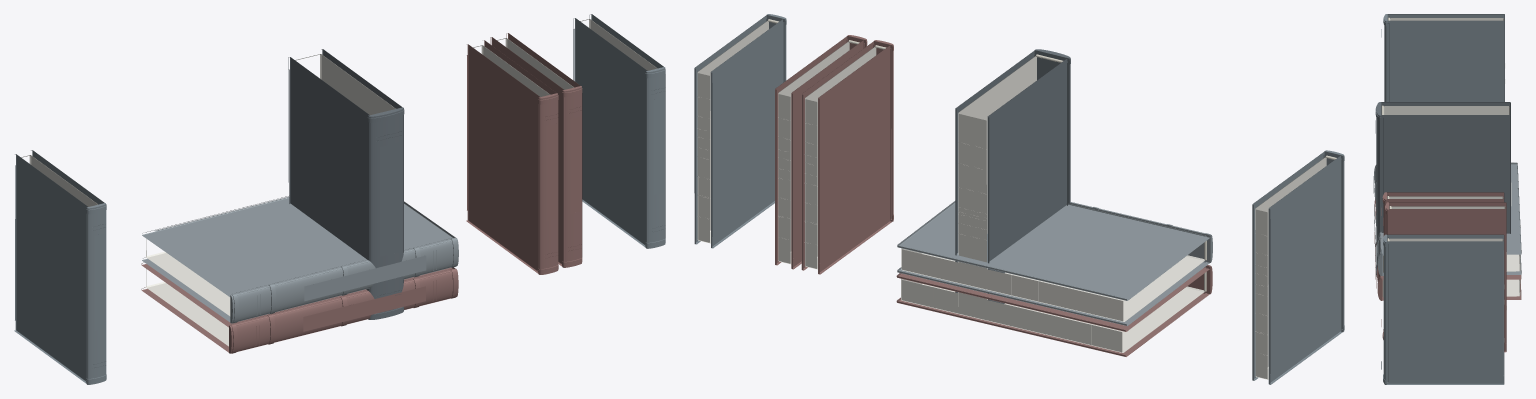
Rendered from X14_LRS1953_BOOKS_S02_bk2.glb.
3 renders of one model, left to right at view 1: azimuth 30°, elevation 25°; view 2: azimuth 150°, elevation 25°; view 3: azimuth 270°, elevation 25°, orthographic. The views are drawn at different scales.
Parts seen in each view (by area): view 1: S02_ORDERLY_REFERENCE_A_S02_ORDERLY_REFERENCE_B05_book_04_co (×2), S02_ORDERLY_REFERENCE_A_S02_ORDERLY_REFERENCE_B11_book_03_co, S02_ORDERLY_REFERENCE_A_S02_ORDERLY_REFERENCE_B03_book_03_co, S02_ORDERLY_REFERENCE_A_S02_ORDERLY_REFERENCE_B06_book_05_co (×2), S02_ORDERLY_REFERENCE_A_S02_ORDERLY_REFERENCE_B15_book_03_co, S02_ORDERLY_REFERENCE_A_S02_ORDERLY_REFERENCE_B06_book_05_sp, S02_ORDERLY_REFERENCE_A_S02_ORDERLY_REFERENCE_B05_book_04_sp, S02_ORDERLY_REFERENCE_A_S02_ORDERLY_REFERENCE_B04_book_04_sp, S02_ORDERLY_REFERENCE_A_S02_ORDERLY_REFERENCE_B11_book_03_sp, S02_ORDERLY_REFERENCE_A_S02_ORDERLY_REFERENCE_B12_book_03_sp, S02_ORDERLY_REFERENCE_A_S02_ORDERLY_REFERENCE_B03_book_03_sp, S02_ORDERLY_REFERENCE_A_S02_ORDERLY_REFERENCE_B15_book_03_sp (+16 smaller); view 2: S02_ORDERLY_REFERENCE_A_S02_ORDERLY_REFERENCE_B05_book_04_co (×2), S02_ORDERLY_REFERENCE_A_S02_ORDERLY_REFERENCE_B03_book_03_co (×2), S02_ORDERLY_REFERENCE_A_S02_ORDERLY_REFERENCE_B11_book_03_co (×2), S02_ORDERLY_REFERENCE_A_S02_ORDERLY_REFERENCE_B15_book_03_co (×2), S02_ORDERLY_REFERENCE_A_S02_ORDERLY_REFERENCE_B06_book_05_co (×2), S02_ORDERLY_REFERENCE_A_S02_ORDERLY_REFERENCE_B05_book_04_pa, S02_ORDERLY_REFERENCE_A_S02_ORDERLY_REFERENCE_B04_book_04_pa, S02_ORDERLY_REFERENCE_A_S02_ORDERLY_REFERENCE_B06_book_05_pa, S02_ORDERLY_REFERENCE_A_S02_ORDERLY_REFERENCE_B12_book_03_co (×2), S02_ORDERLY_REFERENCE_A_S02_ORDERLY_REFERENCE_B04_book_04_co (×2), S02_ORDERLY_REFERENCE_A_S02_ORDERLY_REFERENCE_B12_book_03_pa, S02_ORDERLY_REFERENCE_A_S02_ORDERLY_REFERENCE_B03_book_03_pa (+5 smaller); view 3: S02_ORDERLY_REFERENCE_A_S02_ORDERLY_REFERENCE_B15_book_03_co (×2), S02_ORDERLY_REFERENCE_A_S02_ORDERLY_REFERENCE_B06_book_05_co (×2), S02_ORDERLY_REFERENCE_A_S02_ORDERLY_REFERENCE_B03_book_03_co (×2), S02_ORDERLY_REFERENCE_A_S02_ORDERLY_REFERENCE_B15_book_03_TI, S02_ORDERLY_REFERENCE_A_S02_ORDERLY_REFERENCE_B12_book_03_co (×2), S02_ORDERLY_REFERENCE_A_S02_ORDERLY_REFERENCE_B03_book_03_TI, S02_ORDERLY_REFERENCE_A_S02_ORDERLY_REFERENCE_B06_book_05_TI, S02_ORDERLY_REFERENCE_A_S02_ORDERLY_REFERENCE_B06_book_05_pa, S02_ORDERLY_REFERENCE_A_S02_ORDERLY_REFERENCE_B11_book_03_co (×2), S02_ORDERLY_REFERENCE_A_S02_ORDERLY_REFERENCE_B05_book_04_co, S02_ORDERLY_REFERENCE_A_S02_ORDERLY_REFERENCE_B06_book_05_sp, S02_ORDERLY_REFERENCE_A_S02_ORDERLY_REFERENCE_B15_book_03_sp (+13 smaller).
Part boxes in pixels (box(x1,y1,x2,y2)): S02_ORDERLY_REFERENCE_A_S02_ORDERLY_REFERENCE_B05_book_04_co (×2): box(142, 196, 455, 322); S02_ORDERLY_REFERENCE_A_S02_ORDERLY_REFERENCE_B11_book_03_co: box(466, 44, 540, 273); S02_ORDERLY_REFERENCE_A_S02_ORDERLY_REFERENCE_B03_book_03_co: box(14, 154, 87, 383); S02_ORDERLY_REFERENCE_A_S02_ORDERLY_REFERENCE_B06_book_05_co (×2): box(288, 49, 403, 290); S02_ORDERLY_REFERENCE_A_S02_ORDERLY_REFERENCE_B15_book_03_co: box(573, 18, 647, 247); S02_ORDERLY_REFERENCE_A_S02_ORDERLY_REFERENCE_B06_book_05_sp: box(368, 107, 403, 319); S02_ORDERLY_REFERENCE_A_S02_ORDERLY_REFERENCE_B05_book_04_sp: box(230, 238, 458, 323); S02_ORDERLY_REFERENCE_A_S02_ORDERLY_REFERENCE_B04_book_04_sp: box(229, 268, 458, 353); S02_ORDERLY_REFERENCE_A_S02_ORDERLY_REFERENCE_B11_book_03_sp: box(538, 93, 557, 274); S02_ORDERLY_REFERENCE_A_S02_ORDERLY_REFERENCE_B12_book_03_sp: box(562, 86, 581, 267); S02_ORDERLY_REFERENCE_A_S02_ORDERLY_REFERENCE_B03_book_03_sp: box(86, 203, 105, 384); S02_ORDERLY_REFERENCE_A_S02_ORDERLY_REFERENCE_B15_book_03_sp: box(645, 67, 665, 248); S02_ORDERLY_REFERENCE_A_S02_ORDERLY_REFERENCE_B05_book_04_co (×2): box(897, 201, 1209, 325); S02_ORDERLY_REFERENCE_A_S02_ORDERLY_REFERENCE_B03_book_03_co (×2): box(1252, 151, 1344, 384); S02_ORDERLY_REFERENCE_A_S02_ORDERLY_REFERENCE_B11_book_03_co (×2): box(801, 41, 891, 274); S02_ORDERLY_REFERENCE_A_S02_ORDERLY_REFERENCE_B15_book_03_co (×2): box(694, 15, 782, 248); S02_ORDERLY_REFERENCE_A_S02_ORDERLY_REFERENCE_B06_book_05_co (×2): box(955, 50, 1067, 303); S02_ORDERLY_REFERENCE_A_S02_ORDERLY_REFERENCE_B05_book_04_pa: box(901, 242, 1205, 321); S02_ORDERLY_REFERENCE_A_S02_ORDERLY_REFERENCE_B04_book_04_pa: box(901, 273, 1204, 352); S02_ORDERLY_REFERENCE_A_S02_ORDERLY_REFERENCE_B06_book_05_pa: box(958, 56, 1061, 299); S02_ORDERLY_REFERENCE_A_S02_ORDERLY_REFERENCE_B12_book_03_co (×2): box(775, 36, 863, 269); S02_ORDERLY_REFERENCE_A_S02_ORDERLY_REFERENCE_B04_book_04_co (×2): box(896, 265, 1210, 356); S02_ORDERLY_REFERENCE_A_S02_ORDERLY_REFERENCE_B12_book_03_pa: box(778, 41, 857, 264); S02_ORDERLY_REFERENCE_A_S02_ORDERLY_REFERENCE_B03_book_03_pa: box(1255, 157, 1334, 379); S02_ORDERLY_REFERENCE_A_S02_ORDERLY_REFERENCE_B15_book_03_co (×2): box(1387, 234, 1504, 384); S02_ORDERLY_REFERENCE_A_S02_ORDERLY_REFERENCE_B06_book_05_co (×2): box(1381, 102, 1510, 233); S02_ORDERLY_REFERENCE_A_S02_ORDERLY_REFERENCE_B03_book_03_co (×2): box(1387, 14, 1504, 101); S02_ORDERLY_REFERENCE_A_S02_ORDERLY_REFERENCE_B15_book_03_TI: box(1406, 273, 1479, 330); S02_ORDERLY_REFERENCE_A_S02_ORDERLY_REFERENCE_B12_book_03_co (×2): box(1389, 202, 1506, 352); S02_ORDERLY_REFERENCE_A_S02_ORDERLY_REFERENCE_B03_book_03_TI: box(1406, 53, 1480, 101); S02_ORDERLY_REFERENCE_A_S02_ORDERLY_REFERENCE_B06_book_05_TI: box(1402, 152, 1483, 192); S02_ORDERLY_REFERENCE_A_S02_ORDERLY_REFERENCE_B06_book_05_pa: box(1384, 106, 1509, 114); S02_ORDERLY_REFERENCE_A_S02_ORDERLY_REFERENCE_B11_book_03_co (×2): box(1387, 192, 1504, 202); S02_ORDERLY_REFERENCE_A_S02_ORDERLY_REFERENCE_B05_book_04_co: box(1382, 162, 1521, 255); S02_ORDERLY_REFERENCE_A_S02_ORDERLY_REFERENCE_B06_book_05_sp: box(1376, 102, 1381, 271); S02_ORDERLY_REFERENCE_A_S02_ORDERLY_REFERENCE_B15_book_03_sp: box(1383, 234, 1386, 384).
Bounding box in the file's own units: 0.6786 × 0.228 × 0.1863.
